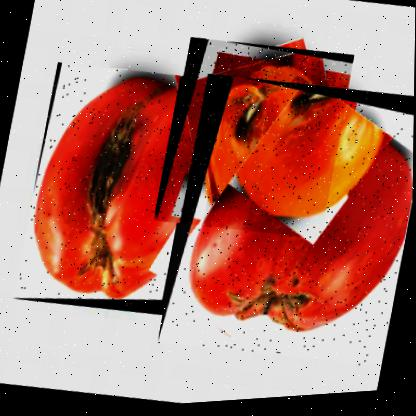tomato_rotten: (156, 63, 414, 384), (13, 51, 229, 328), (155, 29, 355, 250)
